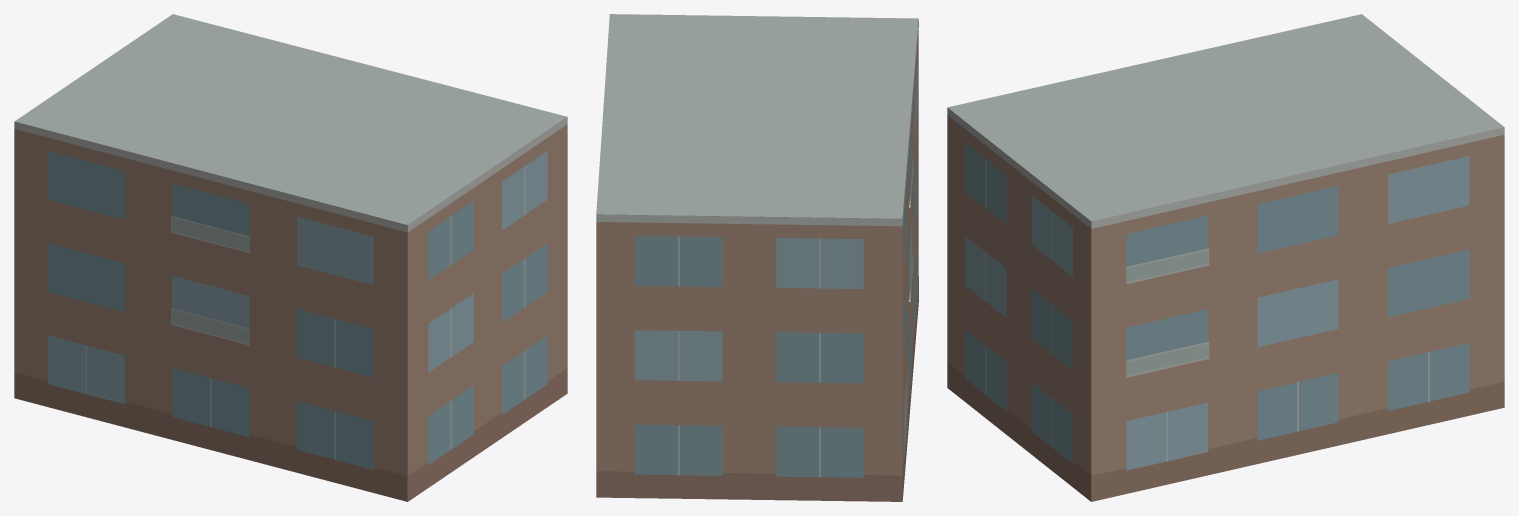
File: survey-upis-32547278.glb
3 renders of one model, left to right at view 1: azimuth 30°, elevation 25°; view 2: azimuth 150°, elevation 25°; view 3: azimuth 270°, elevation 25°, orthographic. The views are drawn at different scales.
Visible parts, largest first — view 1: survey-upis-32547278.tmp; view 2: survey-upis-32547278.tmp; view 3: survey-upis-32547278.tmp.
Boxes of the visible parts, box(x1,y1,x2,y2) form: survey-upis-32547278.tmp: box(14, 14, 567, 501); survey-upis-32547278.tmp: box(596, 14, 918, 501); survey-upis-32547278.tmp: box(947, 14, 1504, 501).
Bounding box in the file's own units: 14.53 × 9.15 × 16.49.
